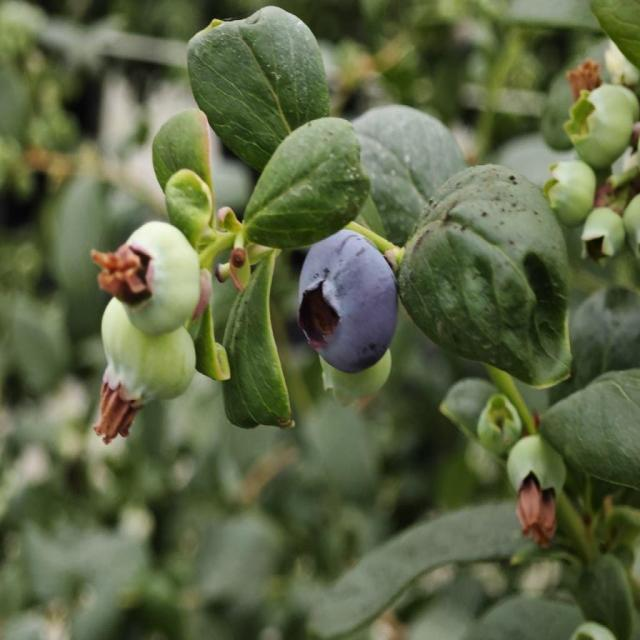RipeBlueBerry: (295, 224, 399, 376)
UnripeBlueBerry: (99, 296, 197, 414), (115, 220, 201, 336)
